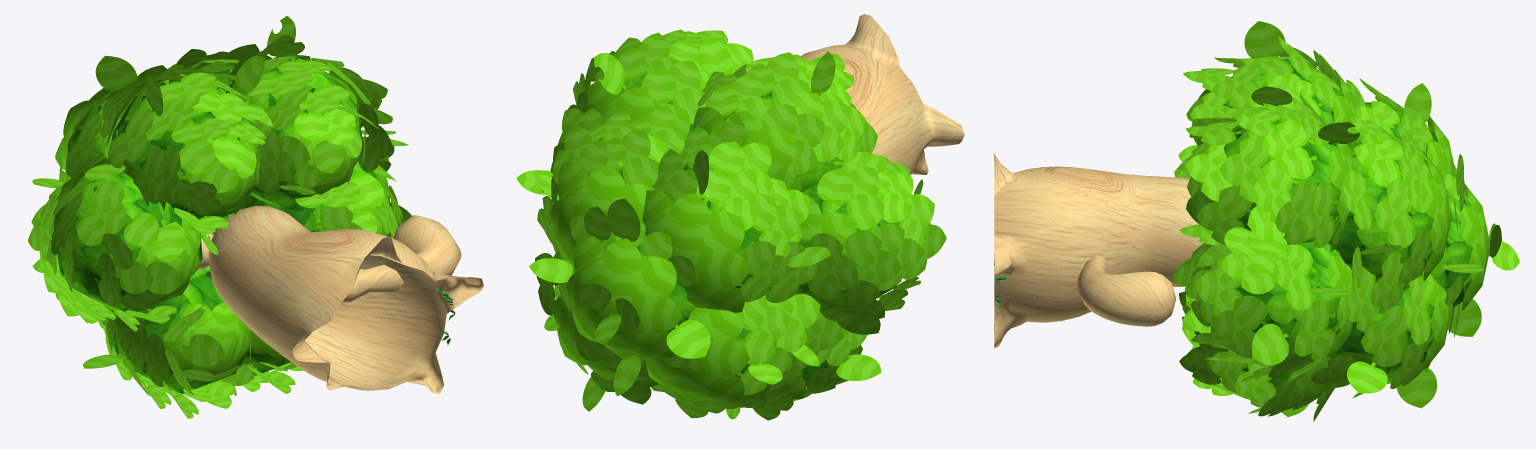
The model's file is Tree002.obj.
The picture shows the model from 3 angles, left to right: view 1: azimuth 30°, elevation 25°; view 2: azimuth 150°, elevation 25°; view 3: azimuth 270°, elevation 25°; orthographic projection. The views are drawn at different scales.
Visible parts, largest first — view 1: TreeA_10__TreeLeaf03, pCube1__TreeBark02, pSphere45__TreeLeaf02; view 2: TreeA_10__TreeLeaf03, pCube1__TreeBark02, pSphere45__TreeLeaf02; view 3: TreeA_10__TreeLeaf03, pCube1__TreeBark02, pSphere45__TreeLeaf02.
Boxes of the visible parts, box(x1,y1,x2,y2) form: TreeA_10__TreeLeaf03: box(28, 16, 411, 418); pCube1__TreeBark02: box(197, 205, 483, 394); pSphere45__TreeLeaf02: box(53, 55, 391, 393); TreeA_10__TreeLeaf03: box(516, 29, 946, 420); pCube1__TreeBark02: box(767, 14, 964, 174); pSphere45__TreeLeaf02: box(559, 61, 900, 382); TreeA_10__TreeLeaf03: box(1172, 21, 1519, 421); pCube1__TreeBark02: box(993, 152, 1203, 348); pSphere45__TreeLeaf02: box(1221, 59, 1472, 400).
Size of the model in its own units: 974 by 895 by 1185.
6 materials, 5 textured.
